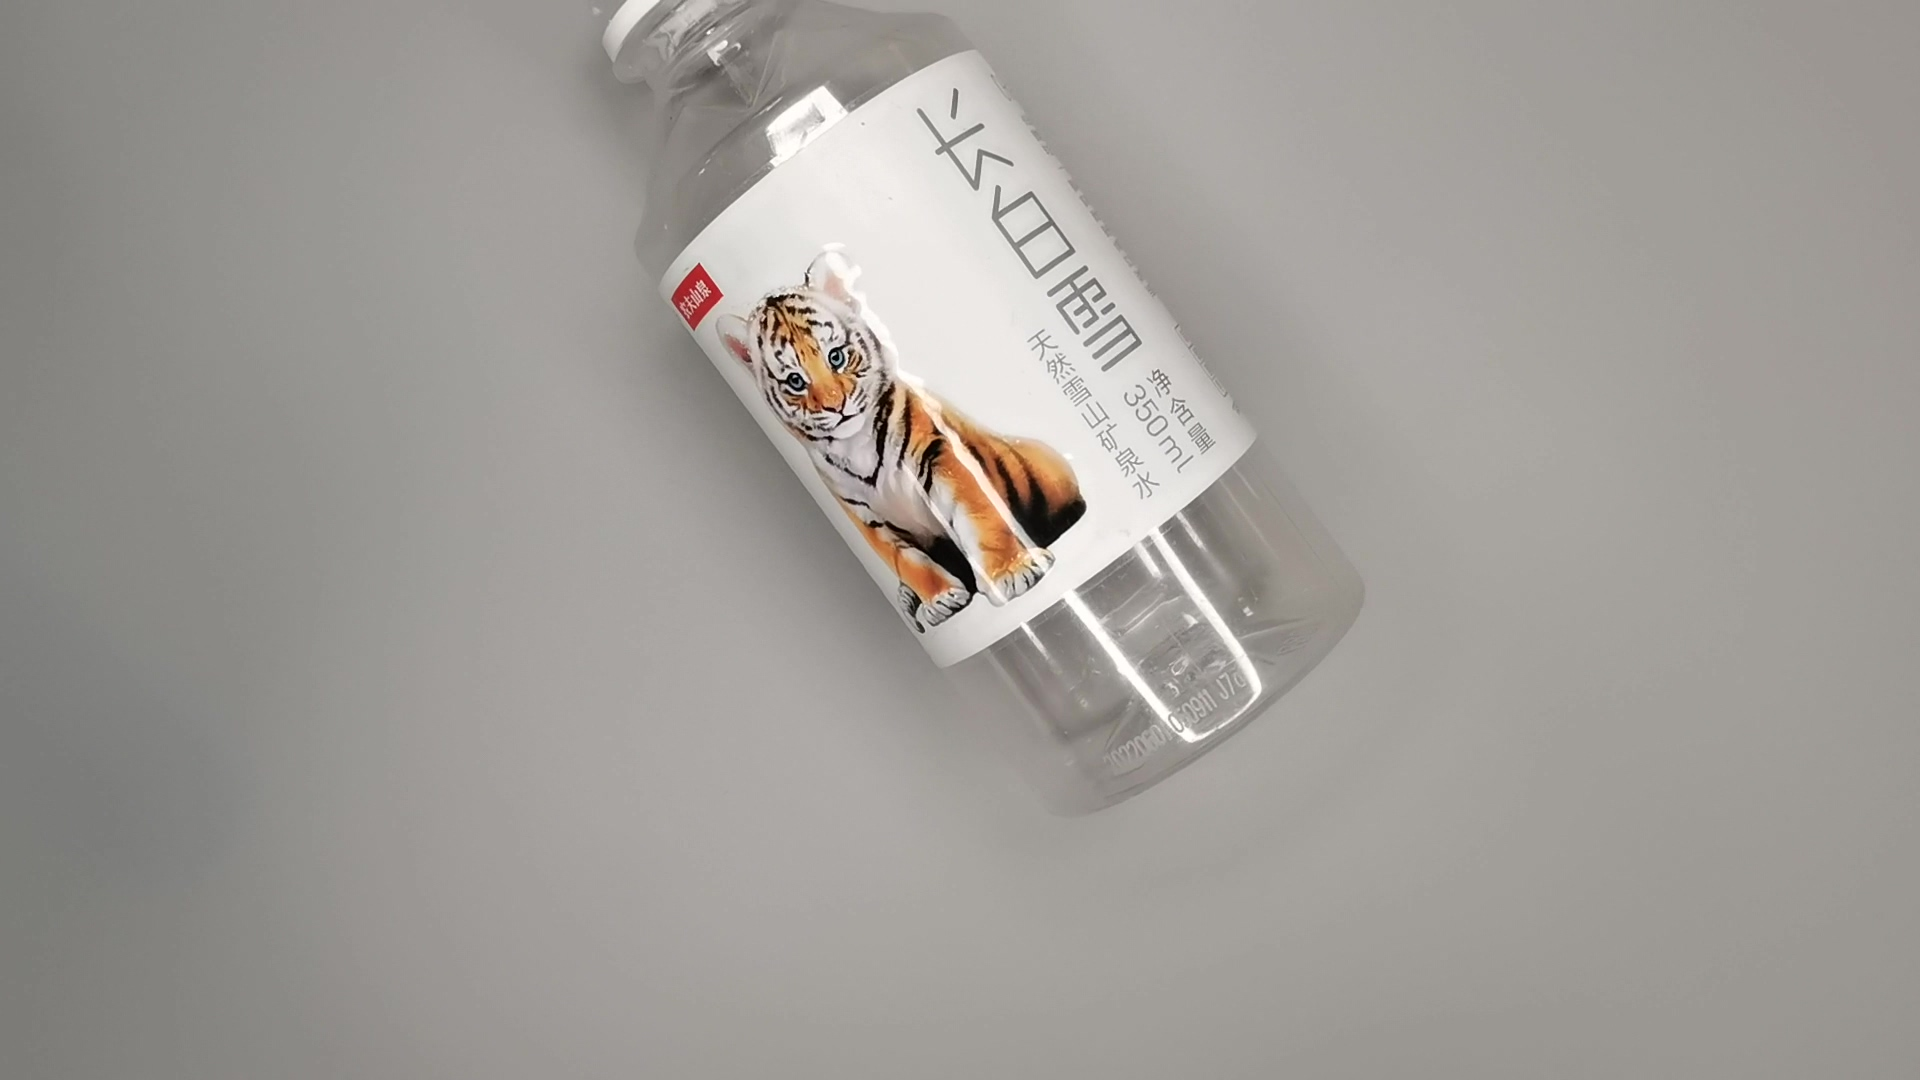bottle: (563, 1, 1371, 820)
